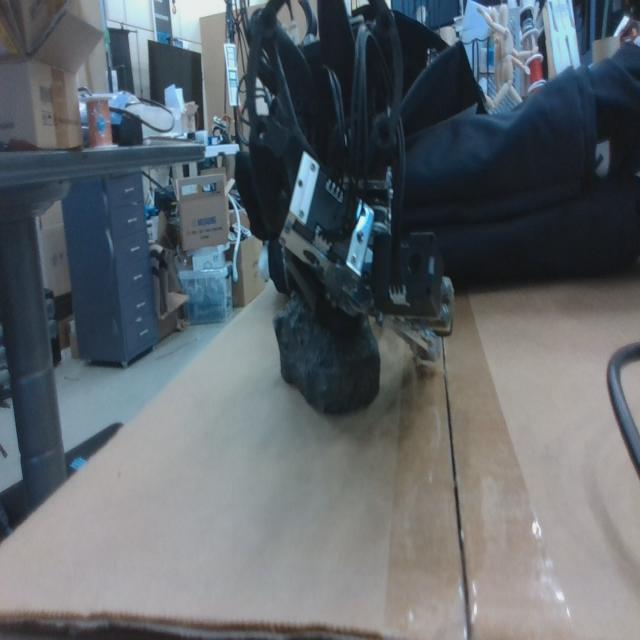stone: (272, 288, 381, 418)
